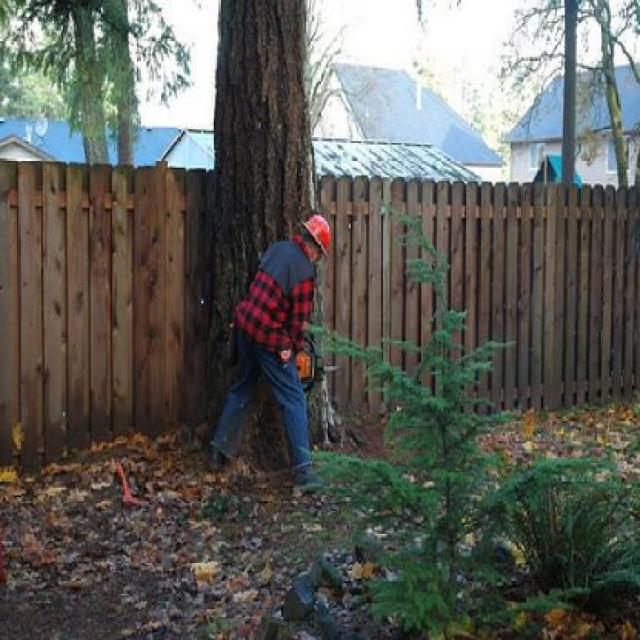Chainsaw: (291, 351, 344, 389)
